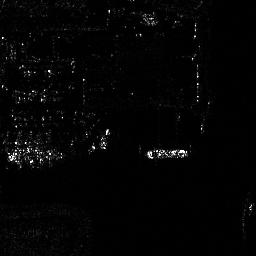ship: (146, 148, 189, 159)
